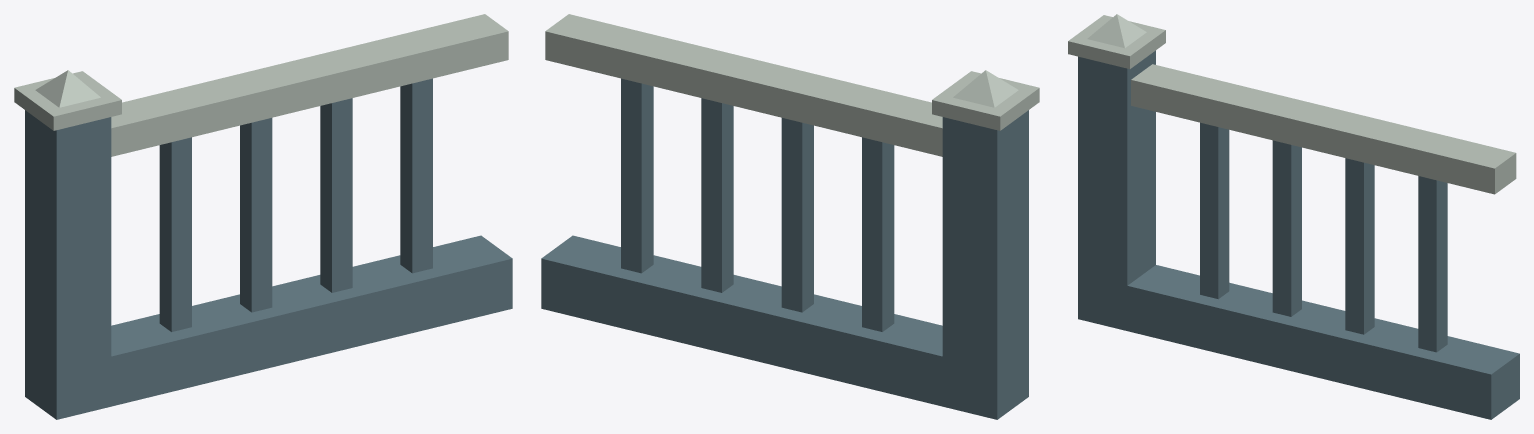
The model's file is rail_section_2m.glb.
3 views of the same model, side by side, from view 1: azimuth 30°, elevation 25°; view 2: azimuth 150°, elevation 25°; view 3: azimuth 330°, elevation 25° (orthographic). The views are drawn at different scales.
Visible parts, largest first — view 1: RailSection2M / Stone, RailSection2M / Coping; view 2: RailSection2M / Stone, RailSection2M / Coping; view 3: RailSection2M / Stone, RailSection2M / Coping.
Boxes of the visible parts, x1,y1,x2,y2 form: RailSection2M / Stone: (25,78,512,419); RailSection2M / Coping: (14,14,508,156); RailSection2M / Stone: (541,78,1028,419); RailSection2M / Coping: (545,14,1039,156); RailSection2M / Stone: (1078,50,1519,419); RailSection2M / Coping: (1068,14,1516,194).
Size of the model in its own units: 2.03 by 1.39 by 0.3.
